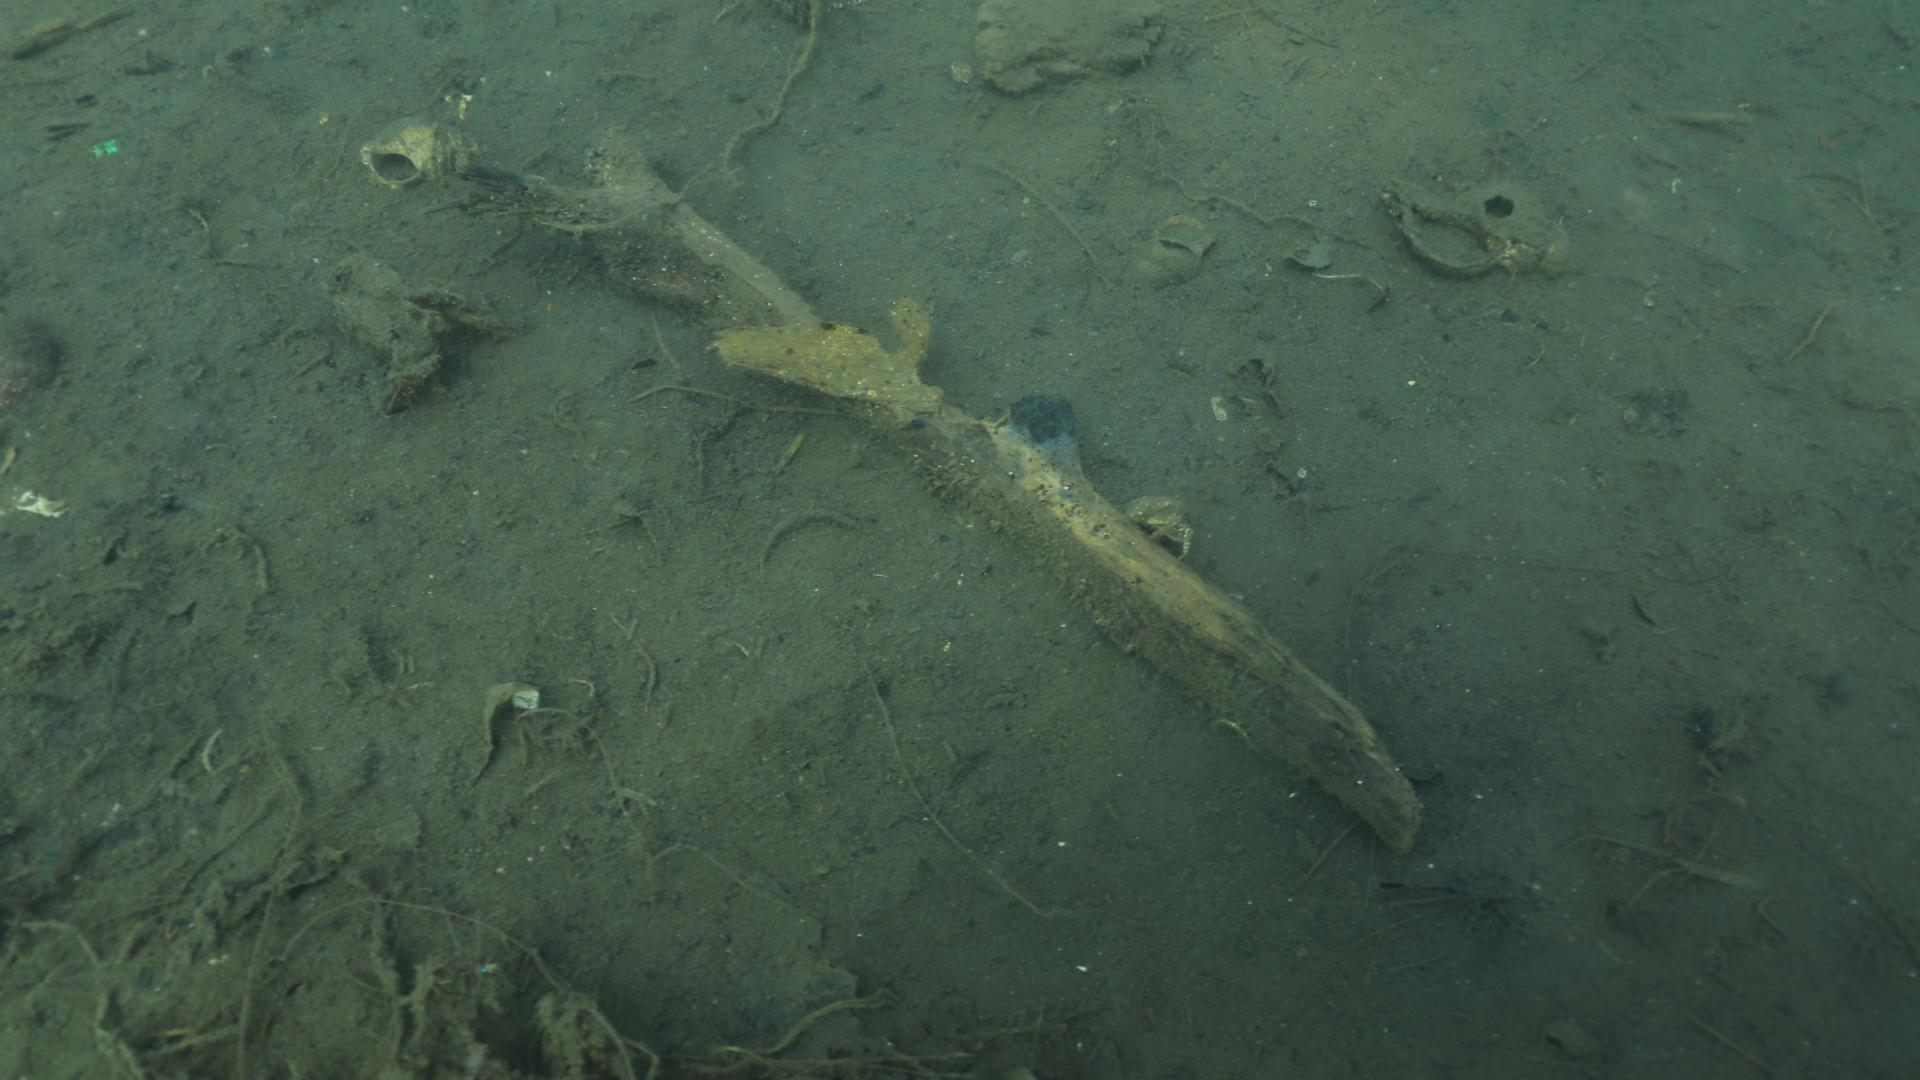wood: (582, 136, 1424, 853)
